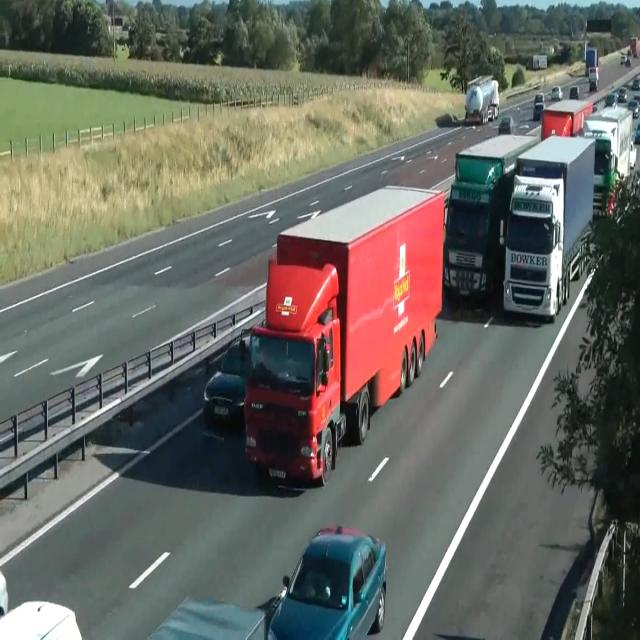bus: (267, 525, 387, 639), (148, 594, 268, 639), (203, 331, 251, 426), (0, 599, 82, 639), (0, 570, 8, 617), (533, 92, 545, 120), (498, 116, 514, 134), (627, 98, 639, 118), (604, 91, 618, 108), (616, 85, 628, 102), (632, 121, 640, 144), (551, 86, 563, 100), (569, 85, 579, 99), (534, 92, 544, 105), (632, 73, 640, 89), (620, 55, 630, 67), (589, 77, 597, 91)
car: (147, 523, 387, 638)
minibus: (243, 184, 445, 487), (501, 133, 595, 322), (443, 132, 539, 305), (582, 104, 636, 218), (540, 98, 594, 140), (464, 74, 500, 125), (585, 47, 599, 92), (525, 54, 547, 70), (588, 66, 599, 92), (630, 36, 640, 57)
